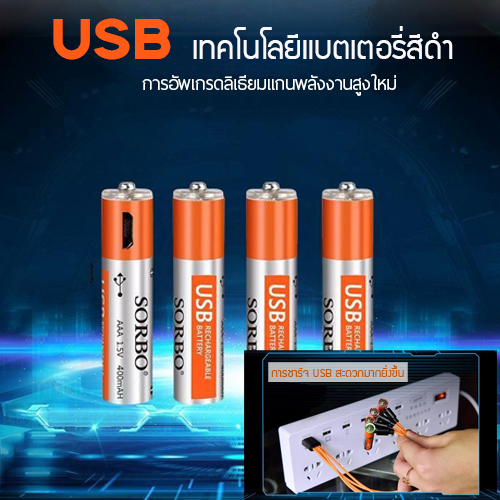Battery: (98, 180, 156, 407), (171, 180, 226, 405), (318, 178, 376, 356), (244, 180, 300, 351)
